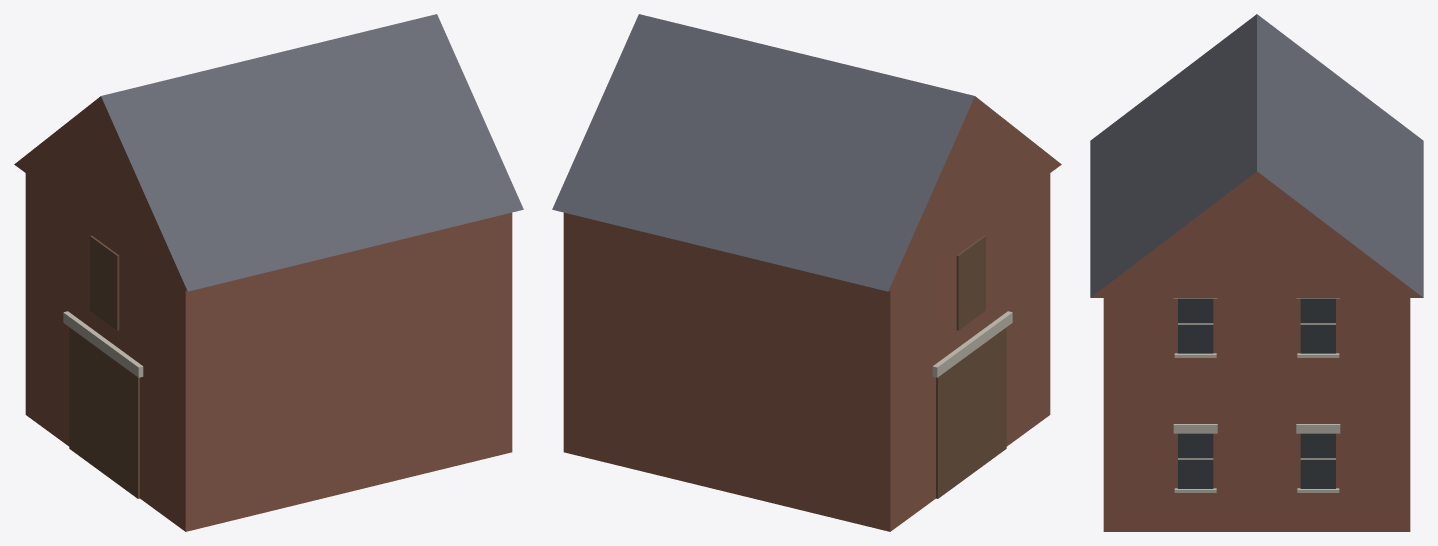
File: house_1809_indiana_coach_house__draft_1904.glb
3 views of the same model, side by side, from view 1: azimuth 30°, elevation 25°; view 2: azimuth 150°, elevation 25°; view 3: azimuth 270°, elevation 25° (orthographic). The views are drawn at different scales.
Visible parts, largest first — view 1: house_1809_indiana_coach_house__draft_1904; view 2: house_1809_indiana_coach_house__draft_1904; view 3: house_1809_indiana_coach_house__draft_1904.
Boxes of the visible parts, x1,y1,x2,y2 form: house_1809_indiana_coach_house__draft_1904: (14,14,523,531); house_1809_indiana_coach_house__draft_1904: (552,14,1061,531); house_1809_indiana_coach_house__draft_1904: (1090,14,1423,531).
Bounding box in the file's own units: 8.49 × 9.14 × 7.6.
